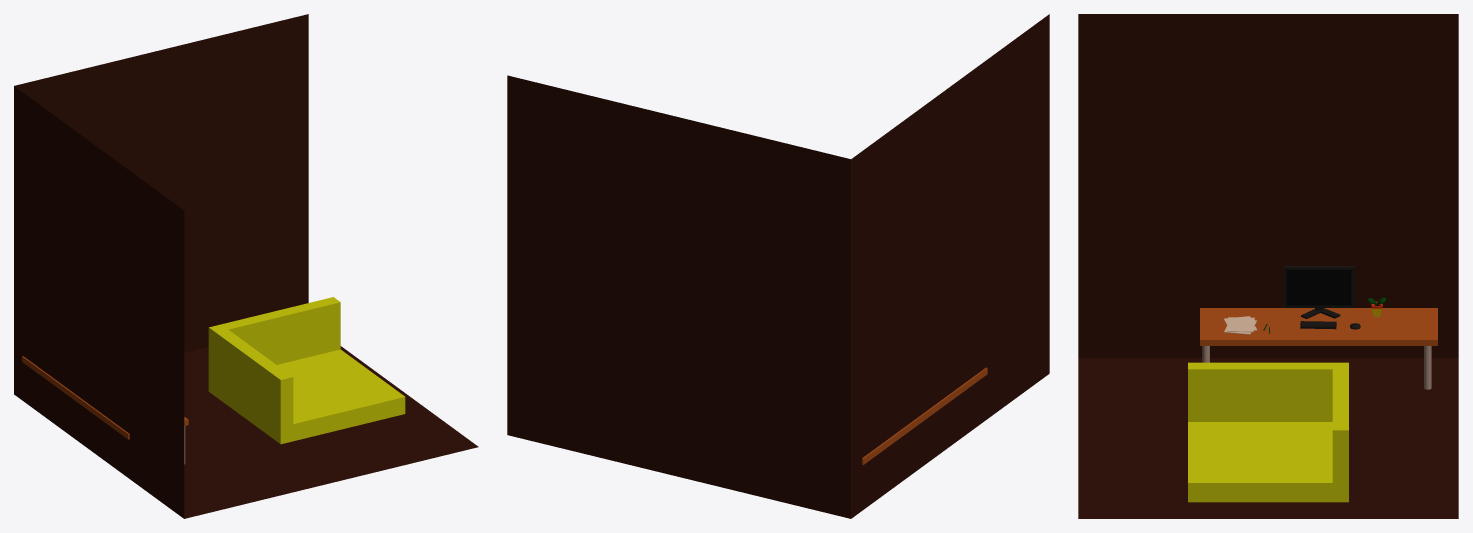
The model's file is Room.fbx.
The picture shows the model from 3 angles, left to right: view 1: azimuth 30°, elevation 25°; view 2: azimuth 150°, elevation 25°; view 3: azimuth 270°, elevation 25°; orthographic projection. The views are drawn at different scales.
Visible parts, largest first — view 1: Room2; view 2: Room2; view 3: Room2.
Part boxes in pixels (x1,y1,x2,y2): Room2: (14,14,478,518); Room2: (507,14,1049,518); Room2: (1078,14,1458,518).
Bounding box in the file's own units: 0.1809 × 0.1803 × 0.1801.
